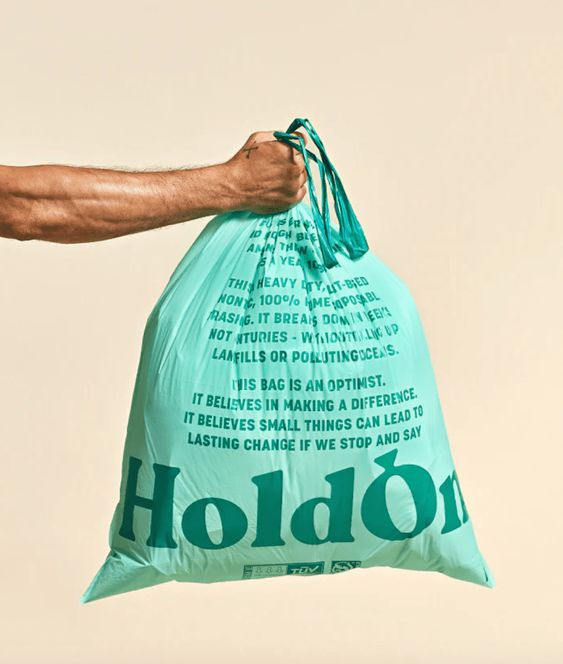papel: (72, 110, 512, 620)
